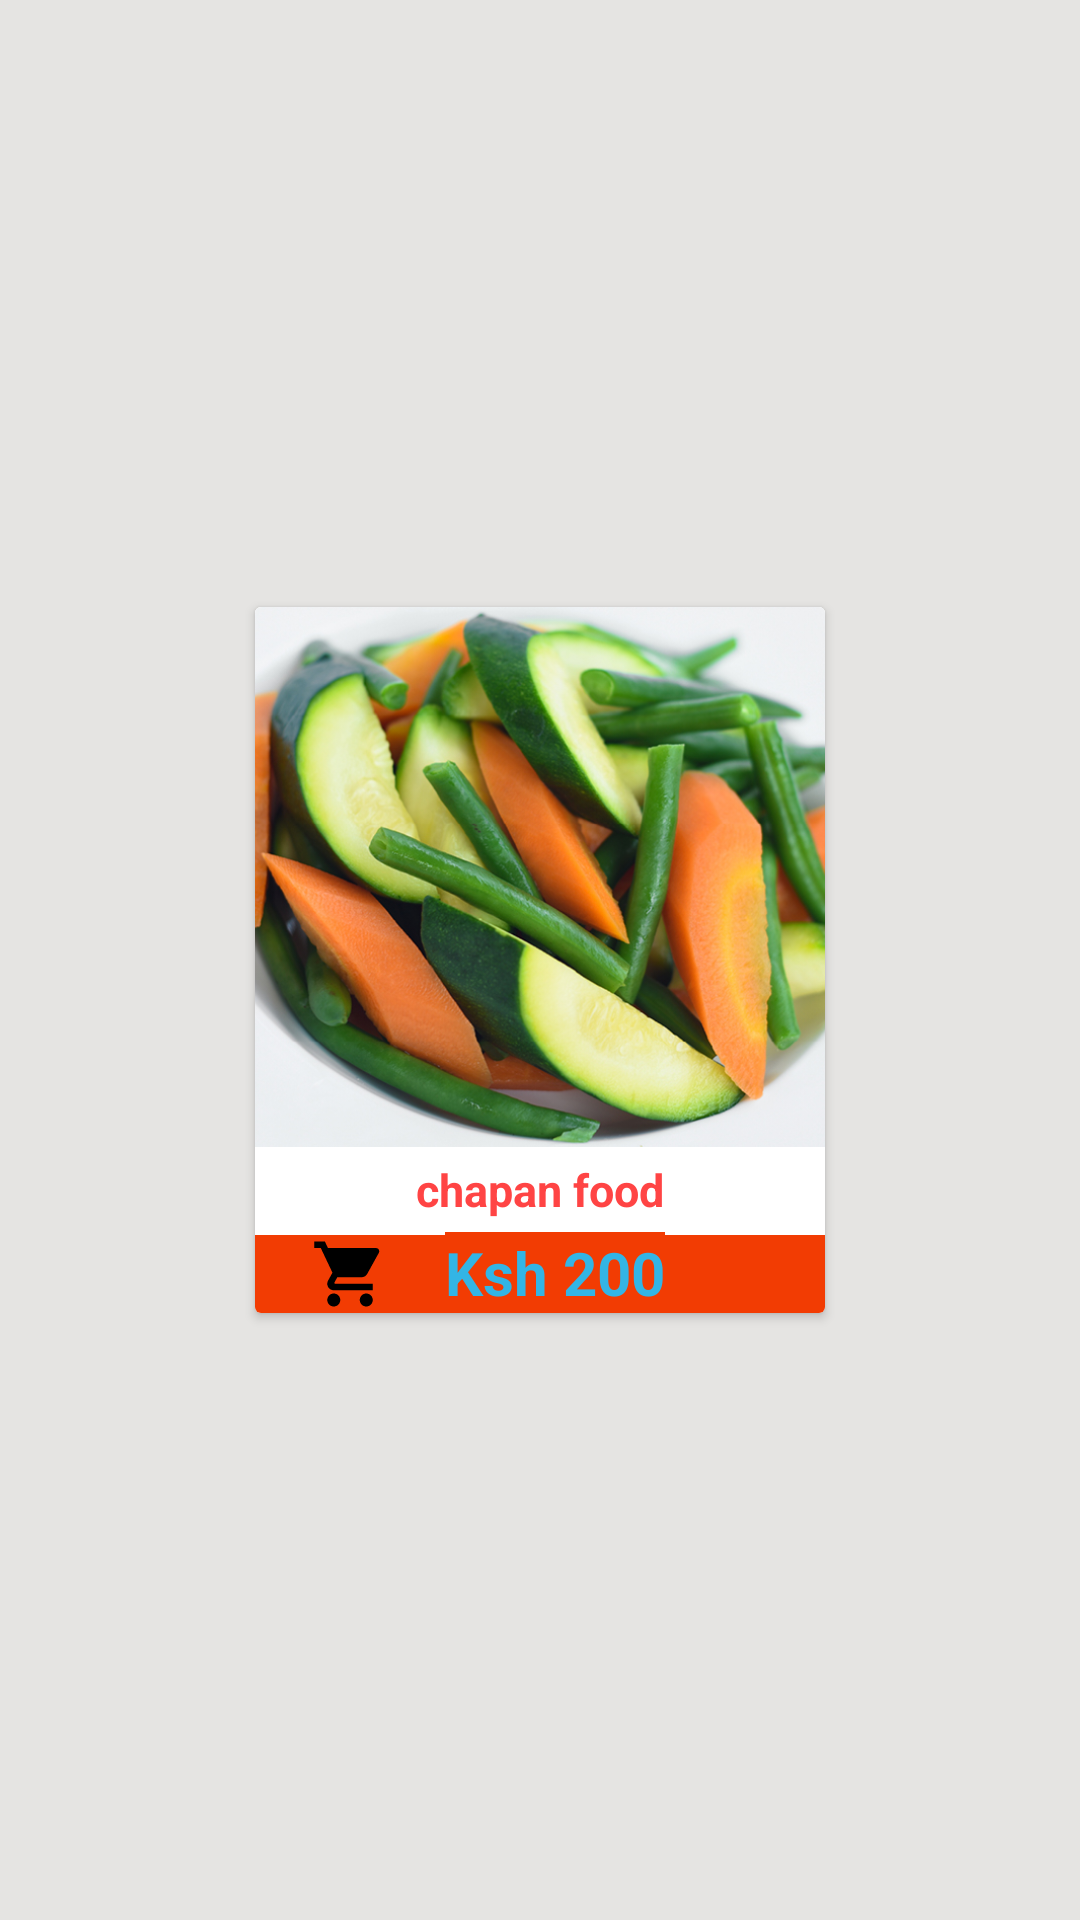

Where to tap for icons on this 1080px x 1920px app screen, as (x,y):
cart tralley: (350,1274)
